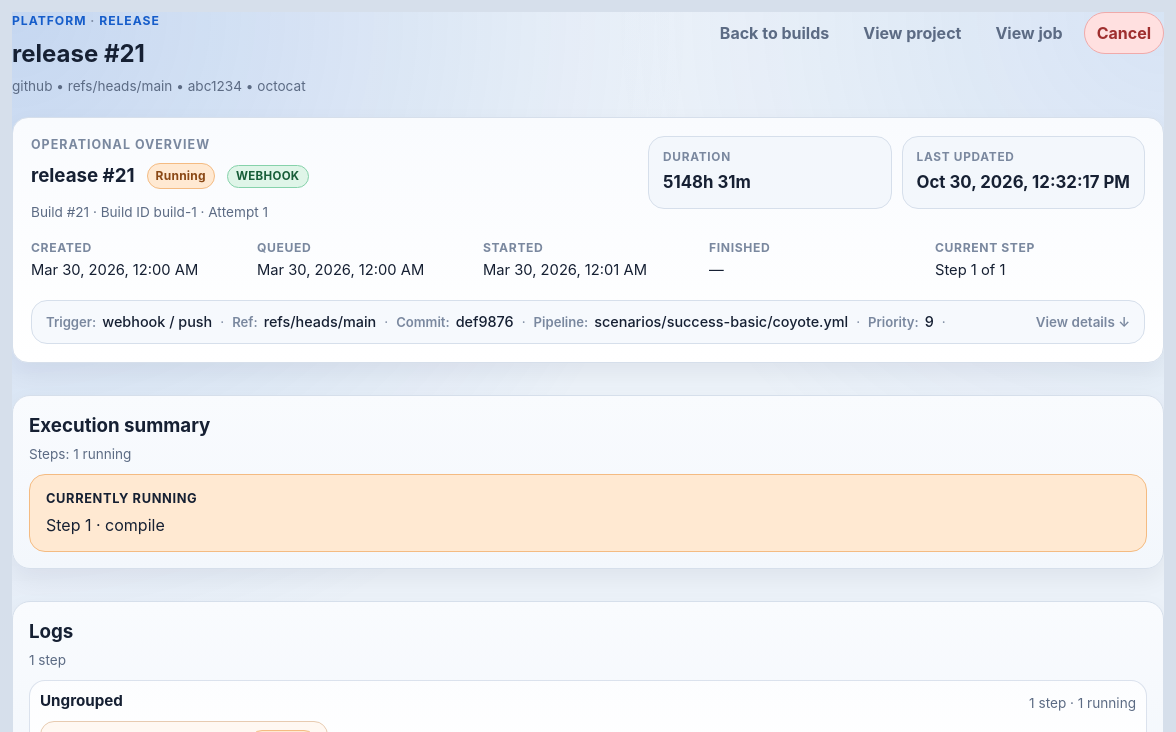
BuildDetailPage › disables the cancel control while cancellation is pending
The image size is (1176, 732).
Click the button "Cancel". click: (1124, 33)
box: [1084,12,1164,54]
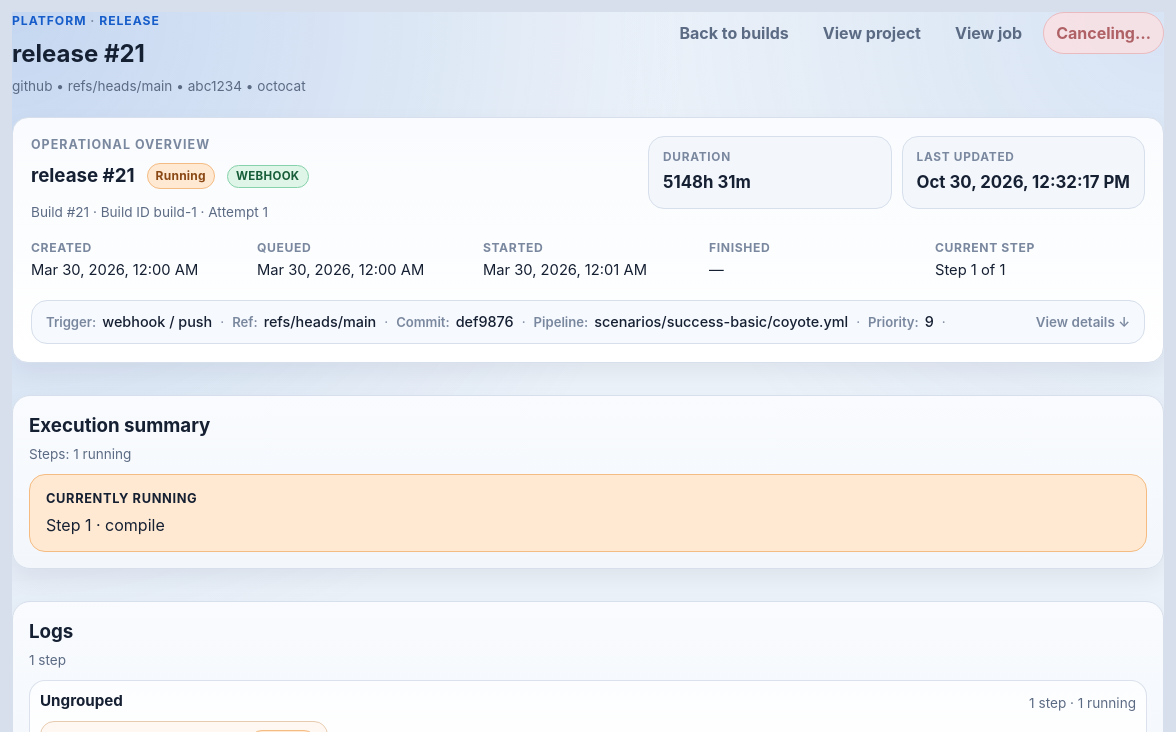
Expected: the button "Canceling…" is disabled, [1043,12,1164,54]
